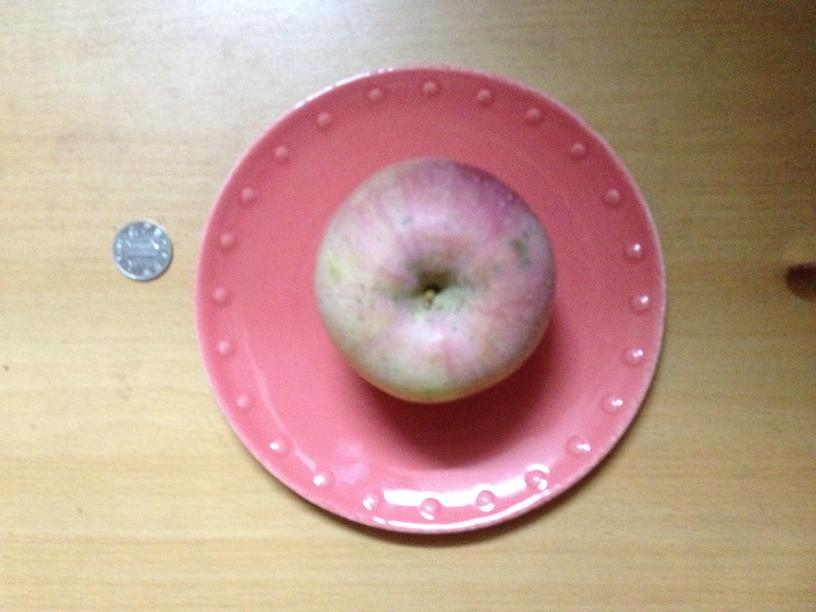apple: (312, 153, 559, 408)
coin: (113, 220, 172, 282)
